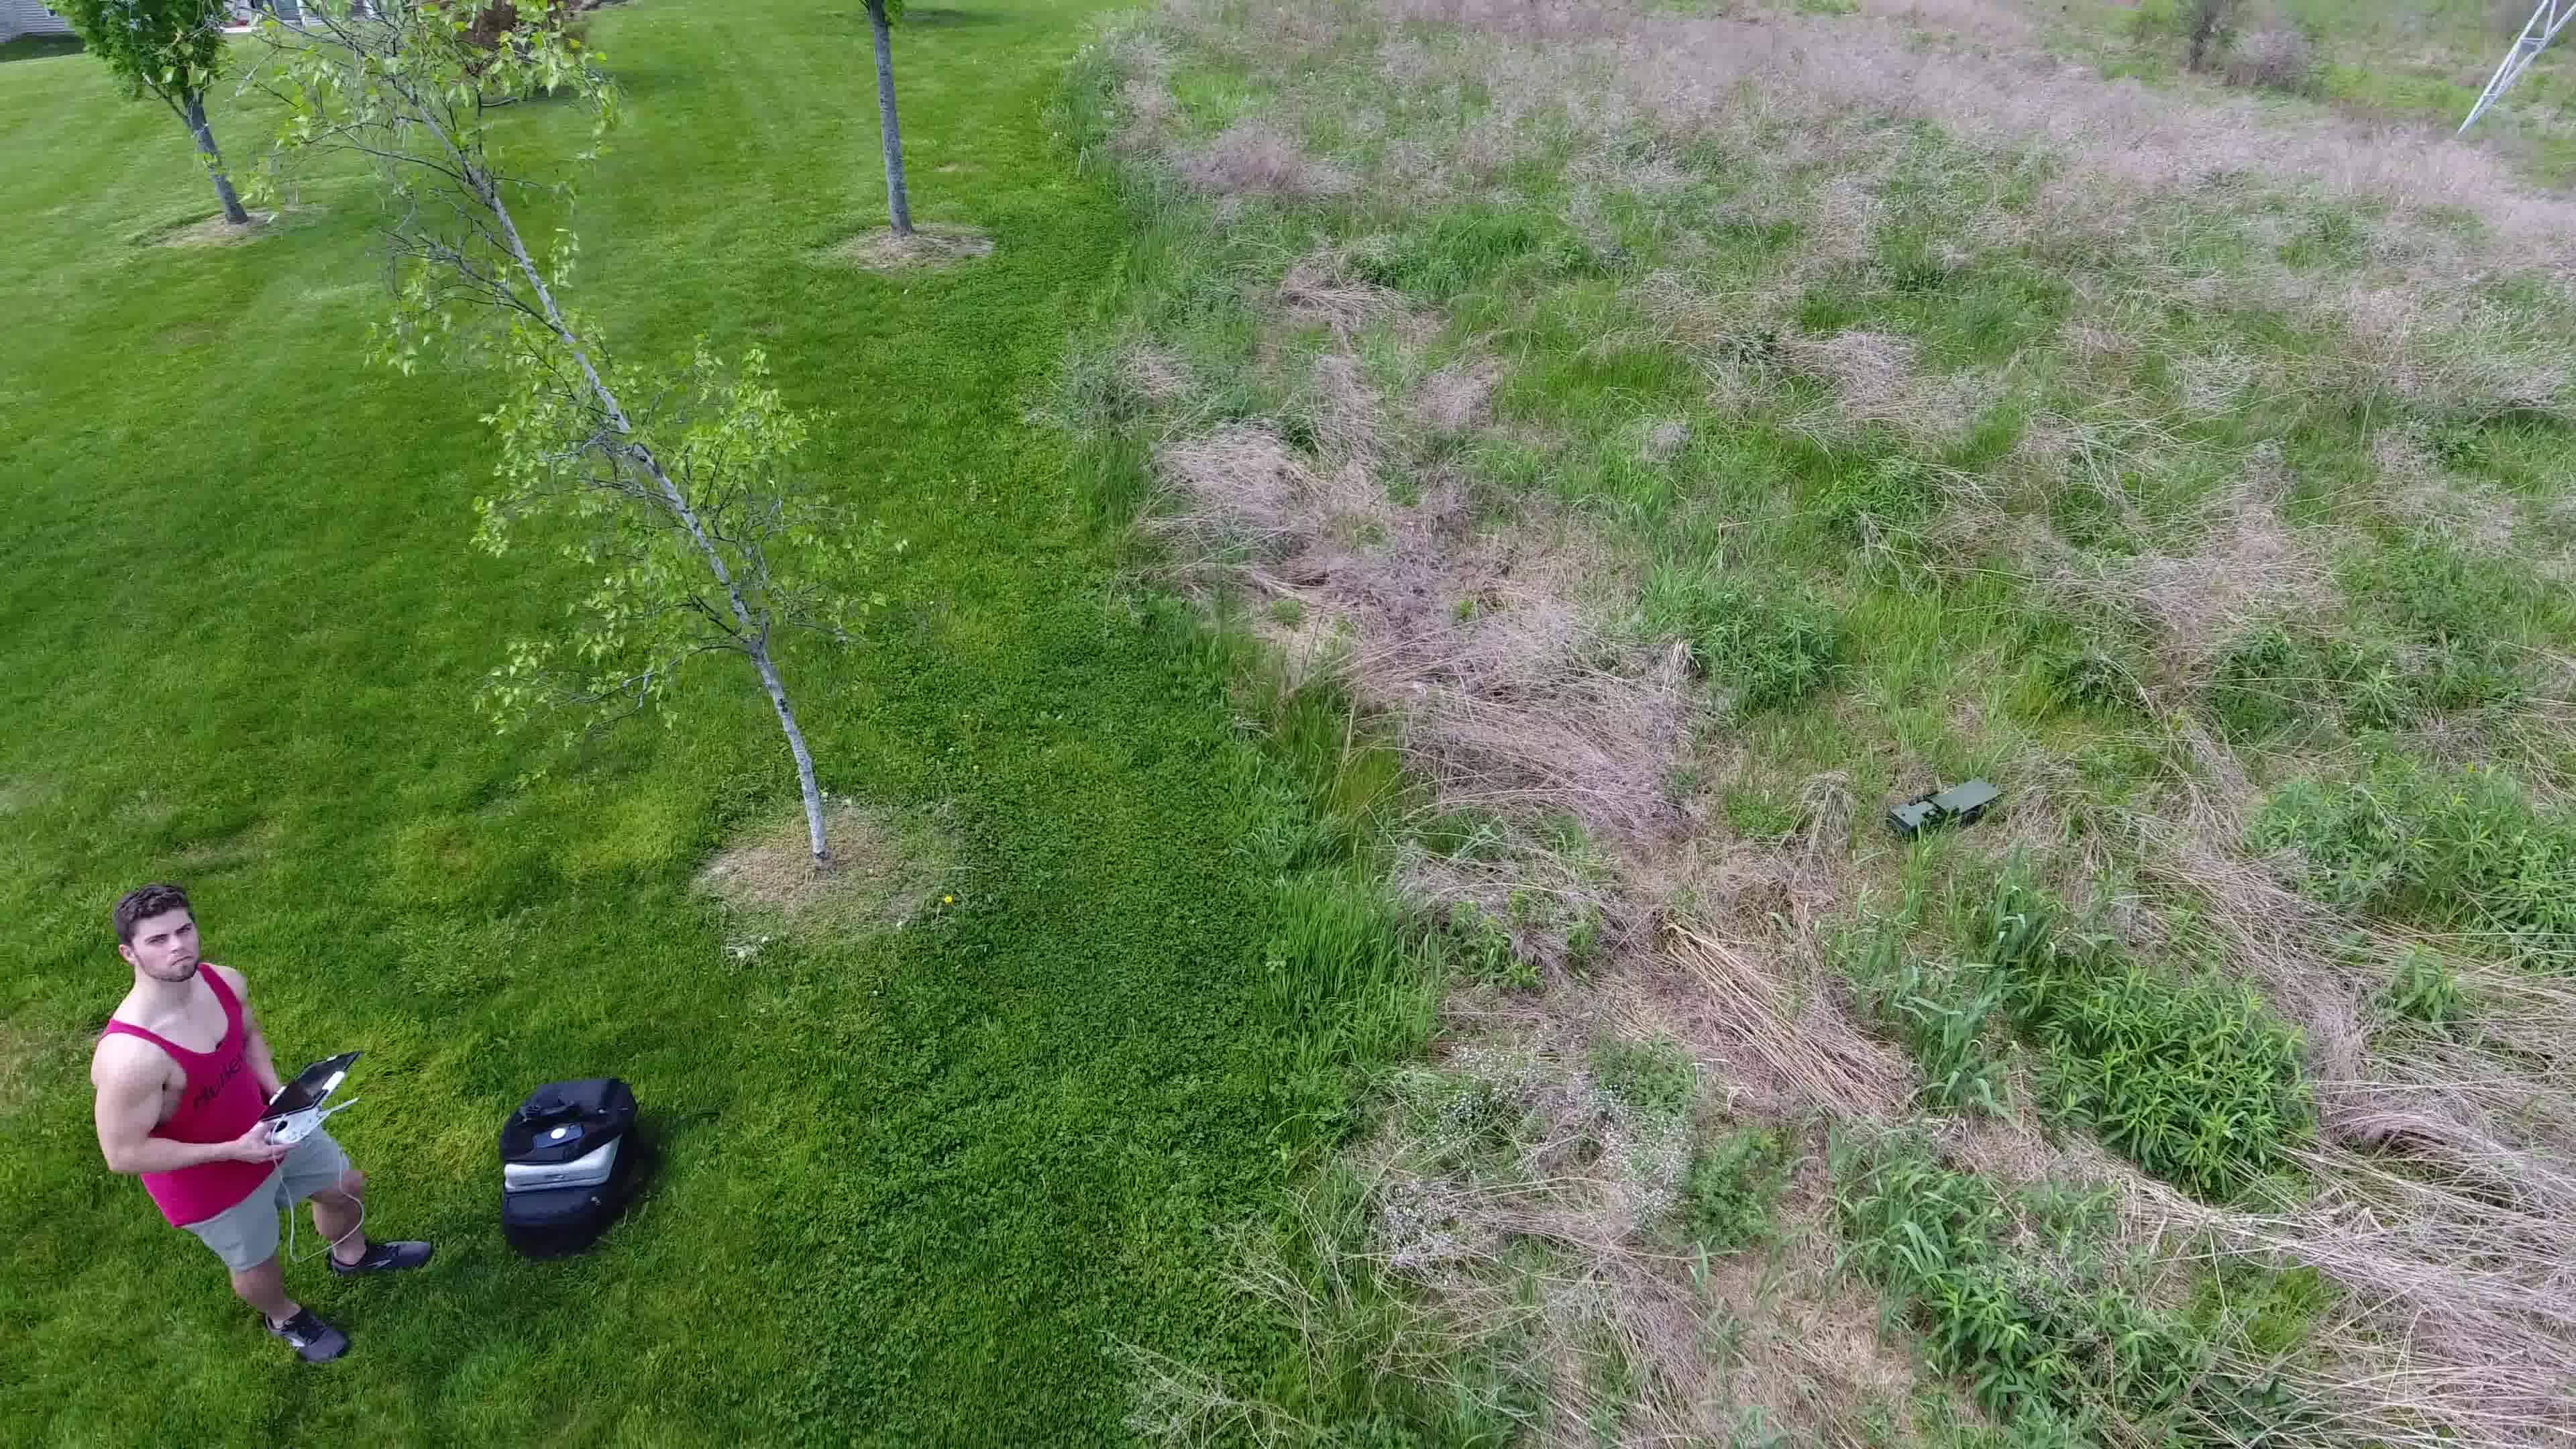transporter9: (1882, 775, 2005, 842)
